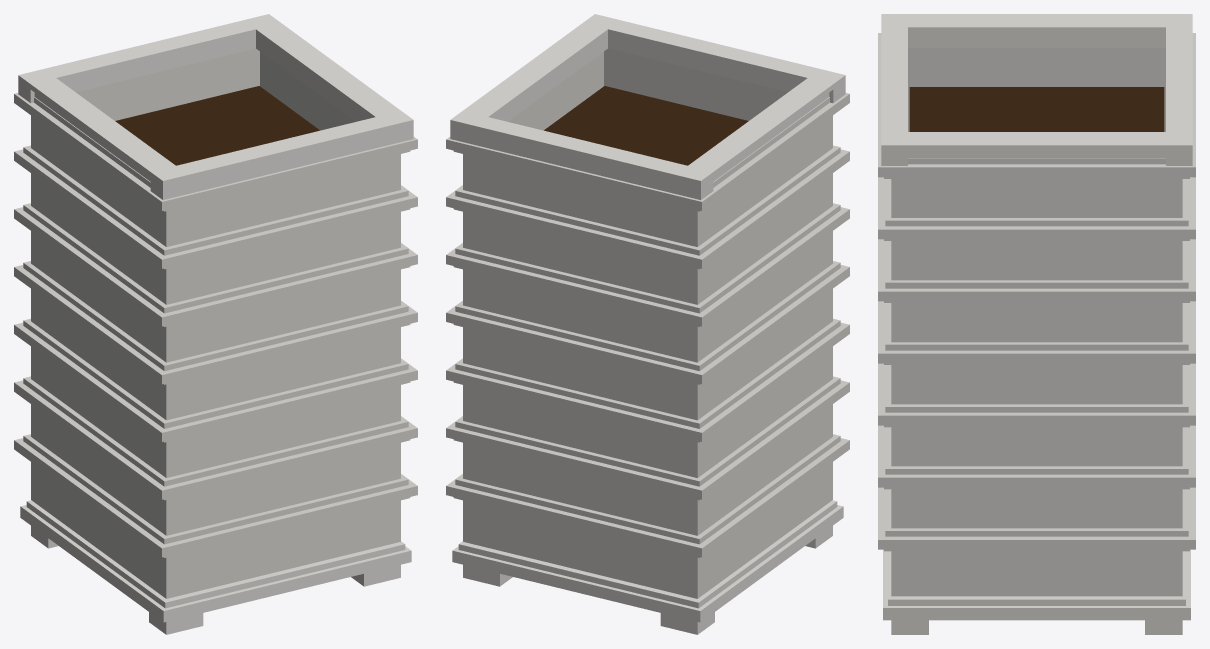
3 views of the same model, side by side, from view 1: azimuth 30°, elevation 25°; view 2: azimuth 150°, elevation 25°; view 3: azimuth 270°, elevation 25° (orthographic). The views are drawn at different scales.
Visible parts, largest first — view 1: front-wall, left-wall, soil, rim-f, back-wall, rim-b, base-lo, rim-r, rim-l, base-hi, band-f-1-1, band-f-3-1 (+30 smaller); view 2: back-wall, left-wall, soil, front-wall, rim-b, rim-f, base-lo, rim-r, base-hi, rim-l, band-b-3-1, band-b-1-1 (+31 smaller); view 3: right-wall, soil, left-wall, rim-l, base-lo, front-wall, back-wall, rim-r, rim-top-r, band-r-4-1, band-r-1-1, band-r-0-1 (+38 smaller).
Boxes of the visible parts, x1,y1,x2,y2 form: front-wall: [158, 154, 400, 598]; left-wall: [31, 115, 179, 596]; soil: [115, 86, 319, 165]; rim-f: [150, 111, 413, 199]; back-wall: [31, 48, 259, 503]; rim-b: [18, 14, 280, 103]; base-lo: [20, 505, 411, 622]; rim-r: [244, 16, 409, 144]; rim-l: [22, 69, 188, 198]; base-hi: [26, 500, 405, 608]; band-f-1-1: [155, 423, 417, 499]; band-f-3-1: [155, 308, 417, 384]; back-wall: [463, 154, 705, 598]; left-wall: [684, 115, 832, 596]; soil: [544, 86, 748, 165]; front-wall: [604, 48, 832, 504]; rim-b: [450, 111, 713, 199]; rim-f: [583, 14, 845, 103]; base-lo: [452, 505, 843, 622]; rim-r: [454, 16, 619, 144]; base-hi: [458, 500, 837, 608]; rim-l: [676, 69, 841, 198]; band-b-3-1: [446, 308, 707, 384]; band-b-1-1: [446, 423, 707, 499]; right-wall: [891, 179, 1182, 596]; soil: [909, 87, 1164, 131]; left-wall: [908, 48, 1165, 131]; rim-l: [881, 16, 1192, 47]; base-lo: [883, 549, 1190, 620]; front-wall: [891, 179, 907, 596]; back-wall: [1166, 179, 1182, 596]; rim-r: [881, 132, 1192, 158]; rim-top-r: [908, 134, 1165, 151]; band-r-4-1: [878, 286, 1195, 301]; band-r-1-1: [878, 472, 1195, 487]; band-r-0-1: [878, 534, 1195, 549].
Bounding box in the file's own units: 0.35 × 0.6 × 0.35.
